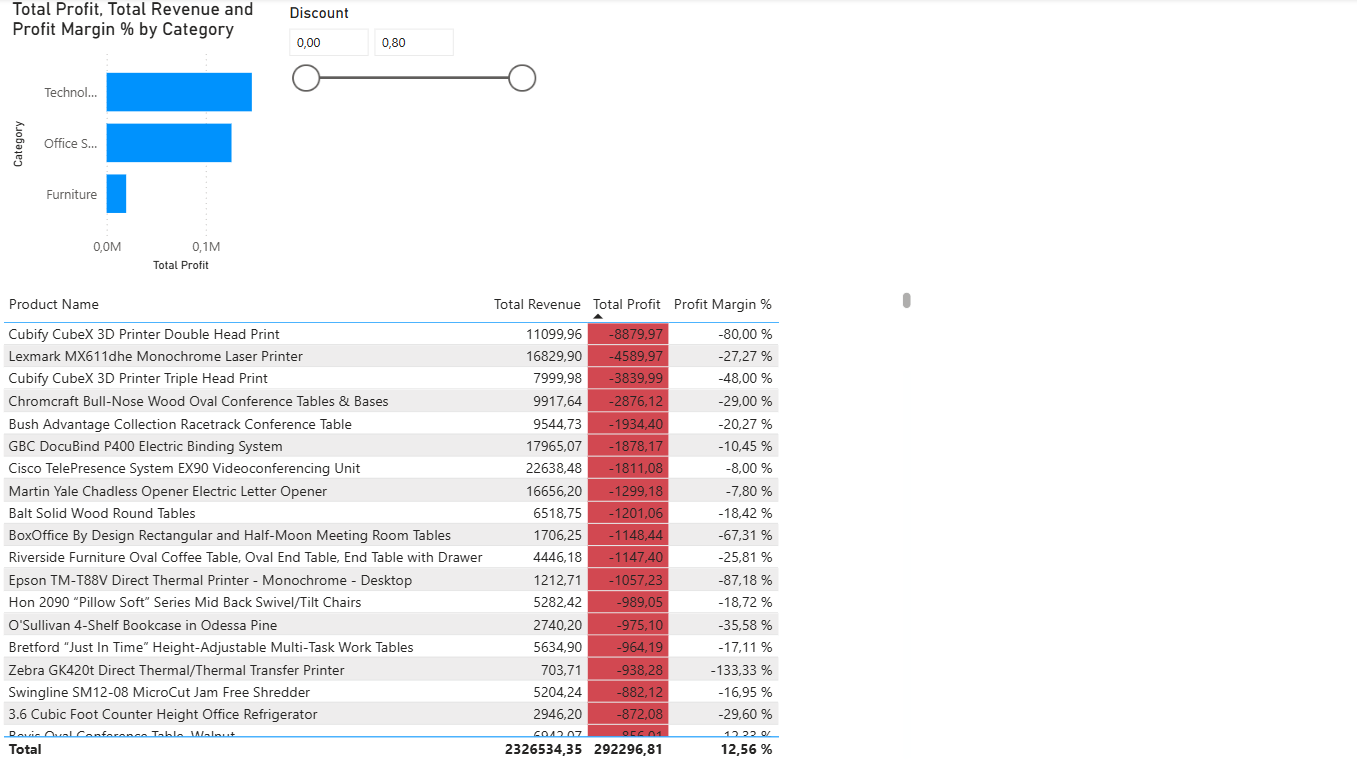

This screenshot's page, from the dashboard's own definition file:
{"tool":"powerbi","page":{"name":"Profitability Deep Dive","canvas":[1280,720],"ordinal":1},"visuals":[{"type":"clusteredBarChart","fields":{"Category":["DimProduct.Category"],"Y":["FactSales.Total Profit"]},"box":[9.6,0,252.5,262.1],"z":0},{"type":"tableEx","fields":{"Values":["DimProduct.Product Name","FactSales.Total Revenue","FactSales.Total Profit","FactSales.Profit Margin %"]},"box":[0,271.3,864.5,244.3],"z":1},{"type":"slicer","fields":{"Values":["FactSales.Discount"]},"box":[261.9,0,252.5,260.7],"z":2}]}

Visuals, with their boxes in screenshot pixels (x1, y1, x2, y2), scaled from the page's 1280x720 canvas onto the 1357x762 screenshot:
clusteredBarChart - DimProduct.Category x FactSales.Total Profit: x1=10 y1=0 x2=278 y2=277
tableEx - DimProduct.Product Name x FactSales.Total Revenue: x1=0 y1=287 x2=917 y2=546
slicer - FactSales.Discount: x1=278 y1=0 x2=545 y2=276
